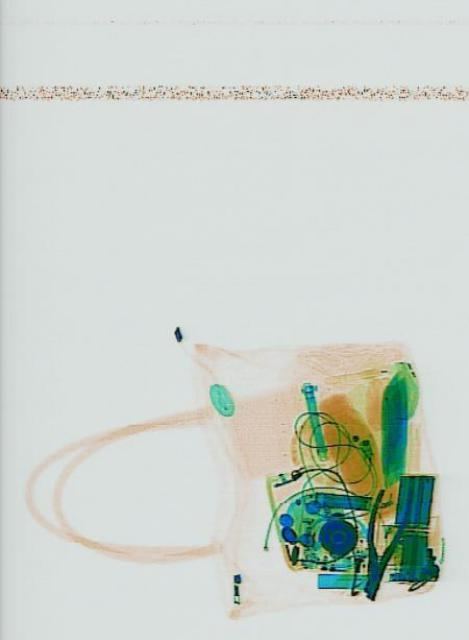Pliers: (347, 476, 415, 604)
